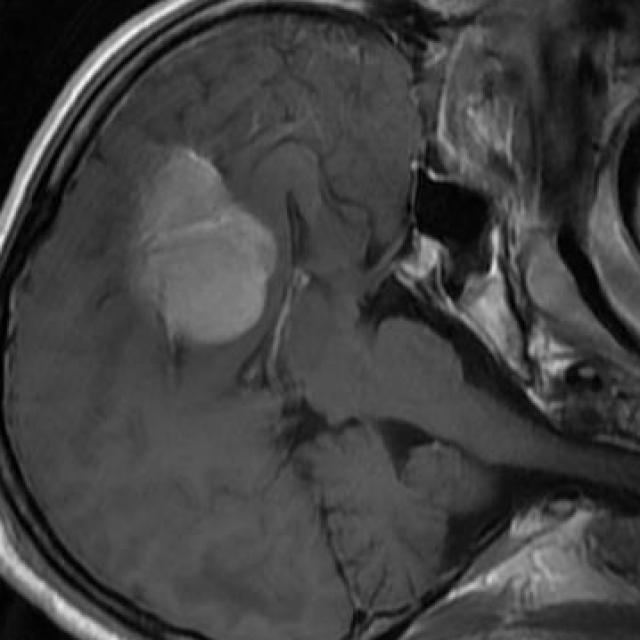meningioma: (143, 150, 273, 342)
